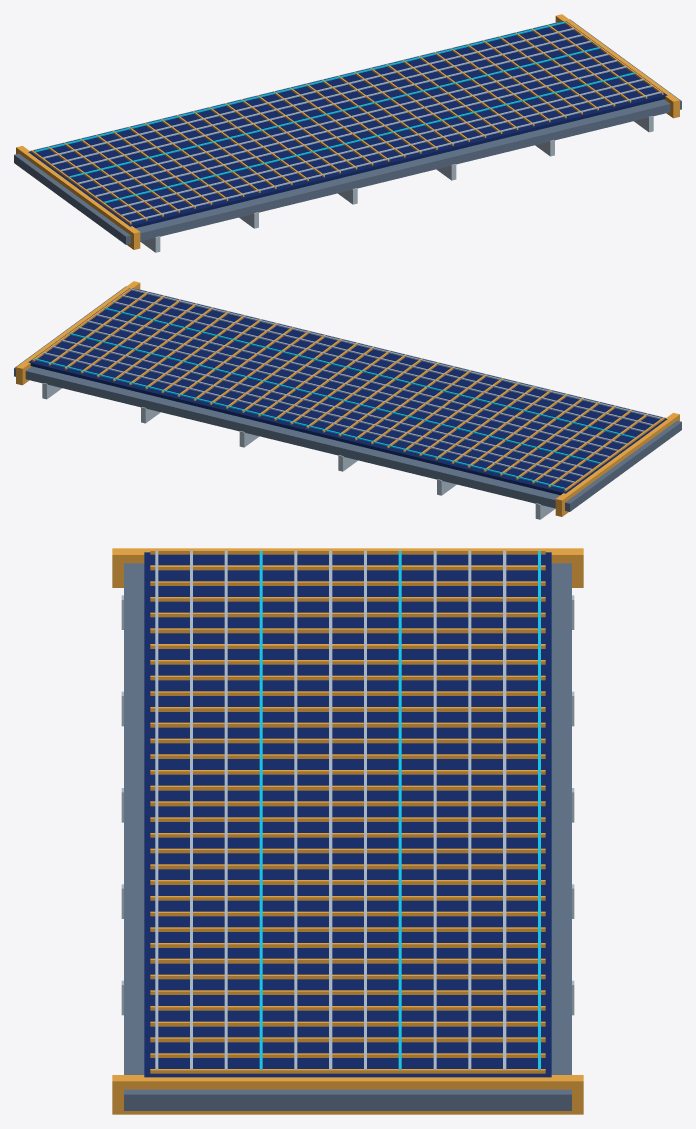
Rendered from 20_L90_Aurora1StarboardSolarArray.fbx.
The picture shows the model from 3 angles, top to bottom: view 1: azimuth 30°, elevation 25°; view 2: azimuth 150°, elevation 25°; view 3: azimuth 270°, elevation 25°; orthographic projection. The views are drawn at different scales.
Visible parts, largest first — view 1: L90_Aurora1StarboardSolarArray_Part_0001, L90_Aurora1StarboardSolarArray_Part_0005, L90_Aurora1StarboardSolarArray_Part_0000, L90_Aurora1StarboardSolarArray_Part_0003, L90_Aurora1StarboardSolarArray_Part_0002, L90_Aurora1StarboardSolarArray_Part_0004; view 2: L90_Aurora1StarboardSolarArray_Part_0001, L90_Aurora1StarboardSolarArray_Part_0005, L90_Aurora1StarboardSolarArray_Part_0000, L90_Aurora1StarboardSolarArray_Part_0003, L90_Aurora1StarboardSolarArray_Part_0002, L90_Aurora1StarboardSolarArray_Part_0004; view 3: L90_Aurora1StarboardSolarArray_Part_0001, L90_Aurora1StarboardSolarArray_Part_0003, L90_Aurora1StarboardSolarArray_Part_0002, L90_Aurora1StarboardSolarArray_Part_0000, L90_Aurora1StarboardSolarArray_Part_0005, L90_Aurora1StarboardSolarArray_Part_0004.
Boxes of the visible parts, x1,y1,x2,y2 form: L90_Aurora1StarboardSolarArray_Part_0001: (28, 21, 667, 228); L90_Aurora1StarboardSolarArray_Part_0005: (43, 27, 661, 252); L90_Aurora1StarboardSolarArray_Part_0000: (14, 19, 681, 244); L90_Aurora1StarboardSolarArray_Part_0003: (16, 14, 679, 249); L90_Aurora1StarboardSolarArray_Part_0002: (31, 79, 421, 224); L90_Aurora1StarboardSolarArray_Part_0004: (34, 21, 635, 203); L90_Aurora1StarboardSolarArray_Part_0001: (28, 288, 667, 495); L90_Aurora1StarboardSolarArray_Part_0005: (42, 288, 661, 519); L90_Aurora1StarboardSolarArray_Part_0000: (14, 286, 681, 511); L90_Aurora1StarboardSolarArray_Part_0003: (16, 281, 679, 516); L90_Aurora1StarboardSolarArray_Part_0002: (274, 346, 664, 491); L90_Aurora1StarboardSolarArray_Part_0004: (34, 307, 635, 489); L90_Aurora1StarboardSolarArray_Part_0001: (144, 552, 551, 1077); L90_Aurora1StarboardSolarArray_Part_0003: (112, 548, 583, 1114); L90_Aurora1StarboardSolarArray_Part_0002: (150, 549, 545, 837); L90_Aurora1StarboardSolarArray_Part_0000: (124, 563, 571, 1110); L90_Aurora1StarboardSolarArray_Part_0005: (121, 551, 574, 1069); L90_Aurora1StarboardSolarArray_Part_0004: (259, 551, 540, 1069).
Bounding box in the file's own units: 845 × 42.5 × 310.
